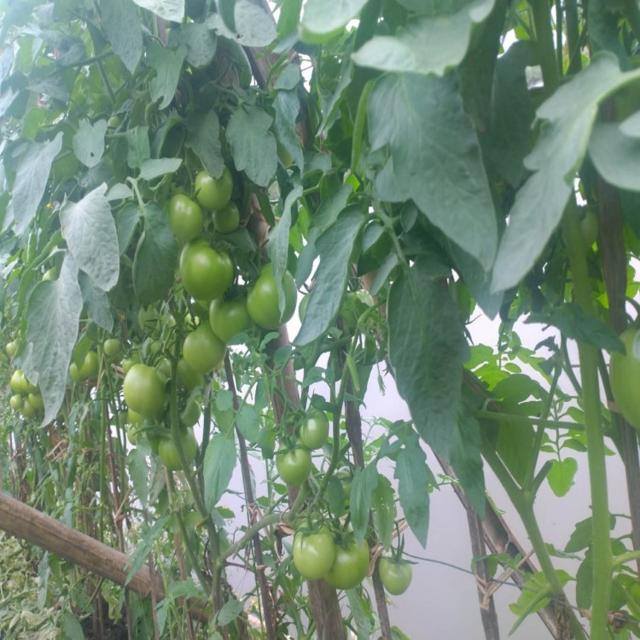tomato: (599, 323, 640, 440), (249, 259, 302, 332), (180, 245, 240, 301), (206, 290, 262, 345), (325, 522, 370, 590), (289, 521, 336, 577), (183, 323, 232, 371), (276, 442, 318, 493), (297, 397, 335, 453), (125, 364, 169, 411), (375, 551, 417, 600), (170, 188, 207, 243), (200, 165, 237, 210), (160, 433, 200, 468), (213, 201, 245, 231), (104, 333, 130, 365), (82, 348, 107, 380), (10, 366, 36, 394), (20, 393, 49, 416), (183, 398, 205, 427), (6, 392, 30, 415), (4, 340, 27, 356), (72, 360, 83, 379)
